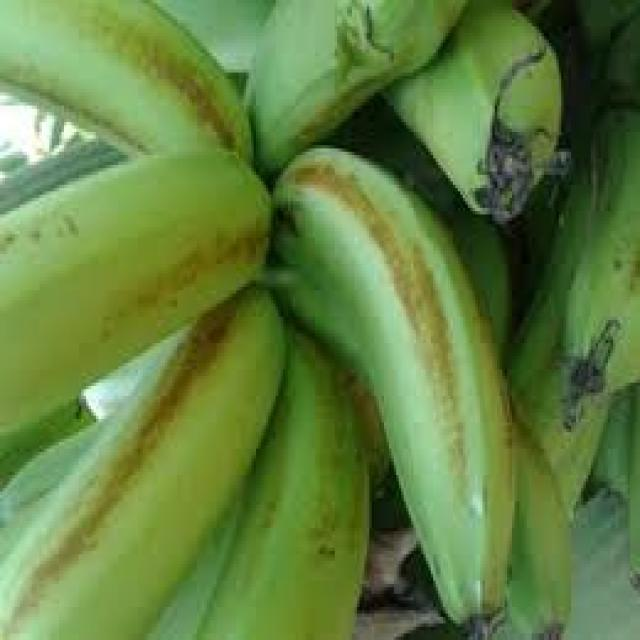banana: (0, 2, 569, 640)
